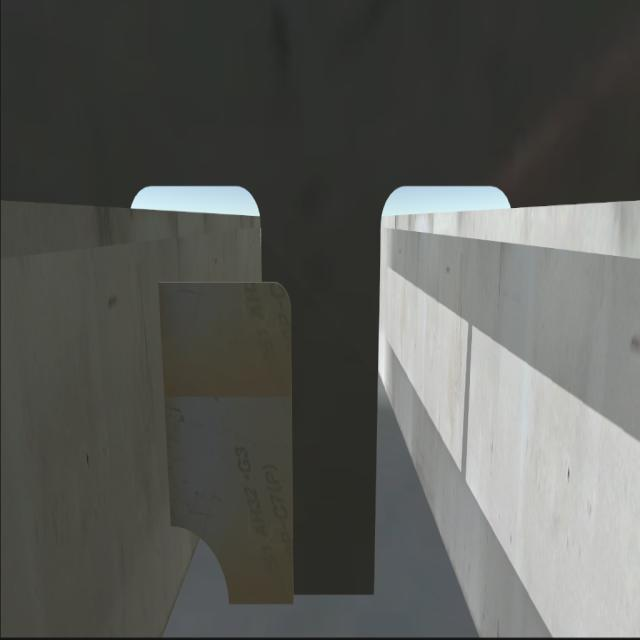fillet_hole: (170, 526, 232, 604)
fillet_yong_jeop_jang: (225, 581, 384, 611)
longi_yong_jeop_jang: (152, 276, 178, 530)
plate_CP05: (154, 281, 296, 603)
